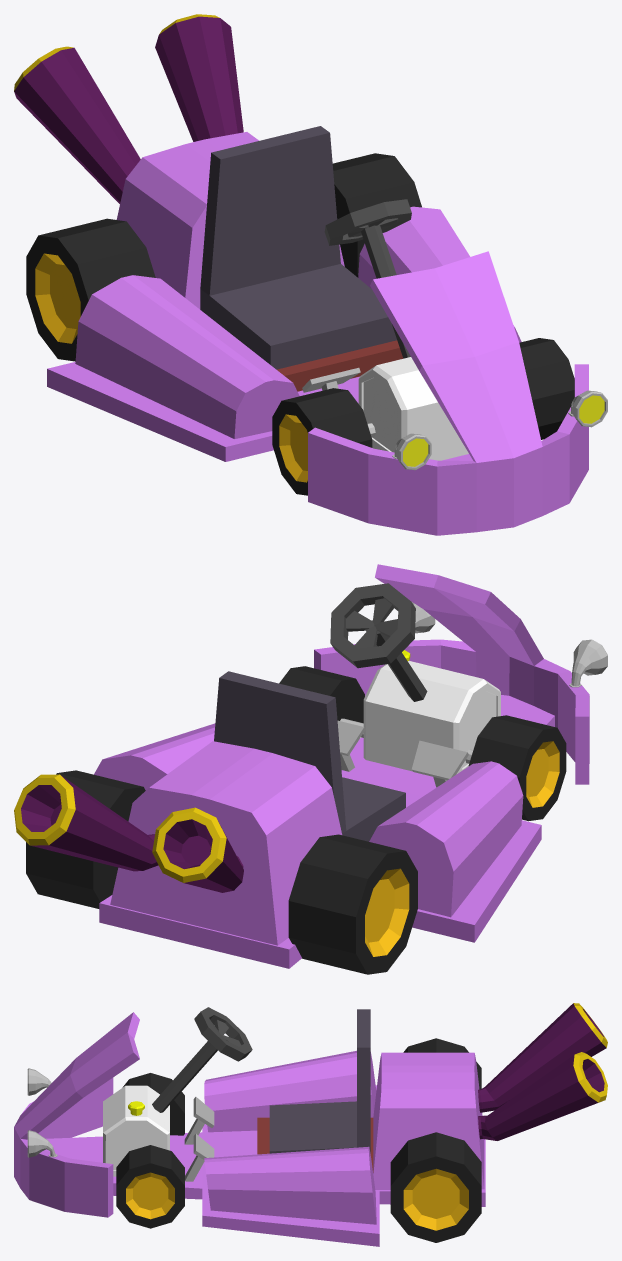
The model's file is LavenderKart.fbx.
The picture shows the model from 3 angles, top to bottom: view 1: azimuth 30°, elevation 25°; view 2: azimuth 150°, elevation 25°; view 3: azimuth 270°, elevation 25°; orthographic projection. The views are drawn at different scales.
Parts seen in each view (by area): view 1: KartPlataform1, Hood1, Chair1, Wheels1, Catalysts1, SteeringWheel1, Lights_Kart1, Pedals1; view 2: KartPlataform1, Wheels1, Hood1, Catalysts1, Chair1, SteeringWheel1, Pedals1, Lights_Kart1; view 3: KartPlataform1, Wheels1, Hood1, Catalysts1, Chair1, SteeringWheel1, Pedals1, Lights_Kart1.
Boxes of the visible parts, left/top/right/bottom form: KartPlataform1: left=47, top=132, right=521, bottom=461; Hood1: left=308, top=251, right=588, bottom=535; Chair1: left=200, top=126, right=403, bottom=391; Wheels1: left=26, top=153, right=574, bottom=495; Catalysts1: left=14, top=14, right=243, bottom=203; SteeringWheel1: left=324, top=199, right=411, bottom=358; Lights_Kart1: left=392, top=390, right=607, bottom=470; Pedals1: left=302, top=367, right=360, bottom=392; KartPlataform1: left=94, top=650, right=554, bottom=968; Wheels1: left=26, top=666, right=566, bottom=974; Hood1: left=314, top=564, right=589, bottom=784; Catalysts1: left=14, top=774, right=243, bottom=892; Chair1: left=214, top=671, right=405, bottom=841; SteeringWheel1: left=330, top=583, right=427, bottom=701; Pedals1: left=337, top=720, right=468, bottom=787; Lights_Kart1: left=412, top=602, right=607, bottom=687; KartPlataform1: left=45, top=1050, right=485, bottom=1246; Wheels1: left=116, top=1038, right=481, bottom=1242; Hood1: left=14, top=1012, right=139, bottom=1217; Catalysts1: left=478, top=1003, right=607, bottom=1140; Chair1: left=257, top=1009, right=373, bottom=1172; SteeringWheel1: left=152, top=1007, right=252, bottom=1112; Pedals1: left=184, top=1097, right=214, bottom=1181; Lights_Kart1: left=27, top=1068, right=57, bottom=1157.
Bounding box in the file's own units: 1053 × 562 × 1774.
